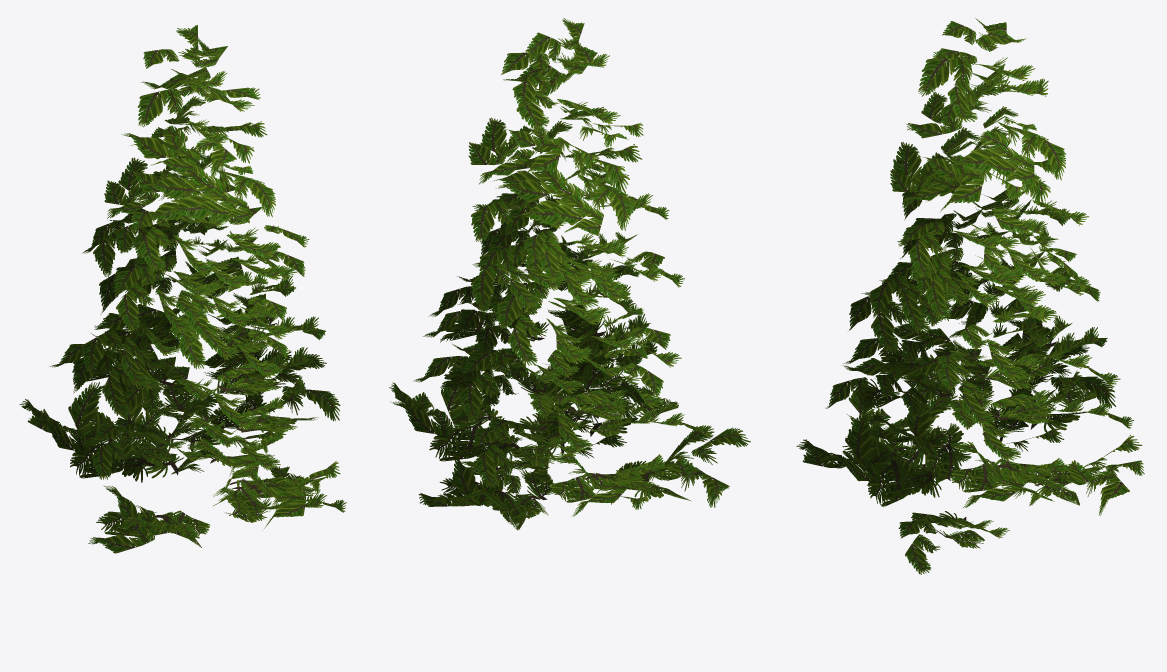
The model's file is alpine_SM_Env_Pine_03.gltf.
3 views of the same model, side by side, from view 1: azimuth 30°, elevation 25°; view 2: azimuth 150°, elevation 25°; view 3: azimuth 270°, elevation 25° (orthographic).
Parts seen in each view (by area): view 1: SM_Env_Pine_03_LOD0; view 2: SM_Env_Pine_03_LOD0; view 3: SM_Env_Pine_03_LOD0.
Part boxes in pixels (<box>): SM_Env_Pine_03_LOD0: <box>19,25,346,553</box>; SM_Env_Pine_03_LOD0: <box>389,18,750,530</box>; SM_Env_Pine_03_LOD0: <box>796,18,1144,574</box>.
Size of what is drawn, in the model's own units: 3.38 by 6.74 by 3.51.
1 material, 1 textured.
